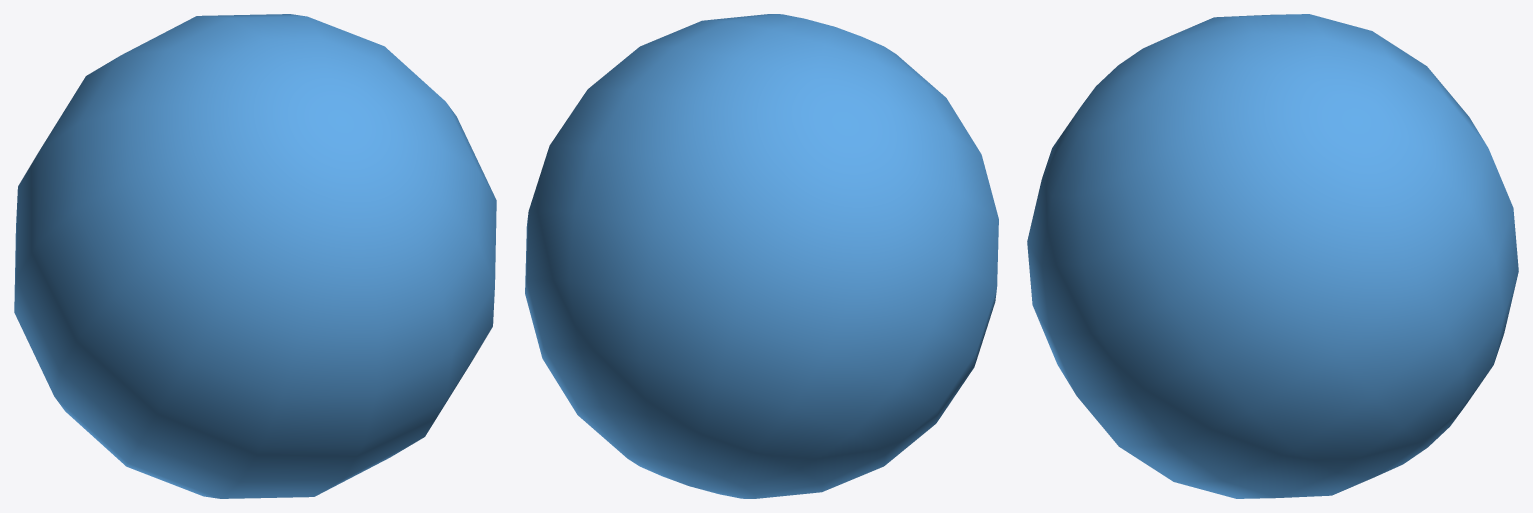
The model's file is NEWJumpBall.fbx.
3 views of the same model, side by side, from view 1: azimuth 30°, elevation 25°; view 2: azimuth 150°, elevation 25°; view 3: azimuth 270°, elevation 25° (orthographic).
Visible parts, largest first — view 1: Sphere; view 2: Sphere; view 3: Sphere.
Boxes of the visible parts, left/top/right/bottom form: Sphere: left=14, top=14, right=496, bottom=498; Sphere: left=525, top=14, right=998, bottom=498; Sphere: left=1027, top=14, right=1518, bottom=498.
Bounding box in the file's own units: 193 × 199 × 200.
